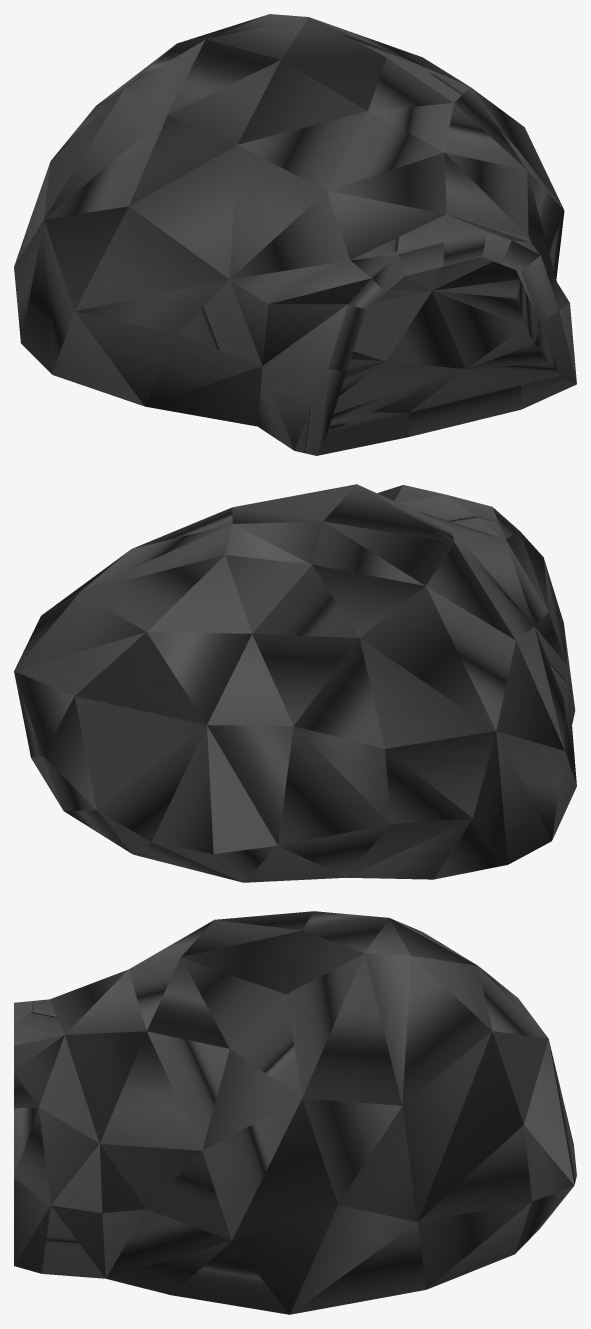
File: GL-Cave-part-07-LOD3.fbx
The picture shows the model from 3 angles, top to bottom: view 1: azimuth 30°, elevation 25°; view 2: azimuth 150°, elevation 25°; view 3: azimuth 270°, elevation 25°; orthographic projection.
Visible parts, largest first — view 1: GL_Cave_part_07; view 2: GL_Cave_part_07; view 3: GL_Cave_part_07.
Part boxes in pixels (x1=…): GL_Cave_part_07: x1=14, y1=14, x2=576, y2=455; GL_Cave_part_07: x1=14, y1=484, x2=576, y2=882; GL_Cave_part_07: x1=14, y1=911, x2=576, y2=1314.
Size of the model in its own units: 6.32 by 3.4 by 6.24.
